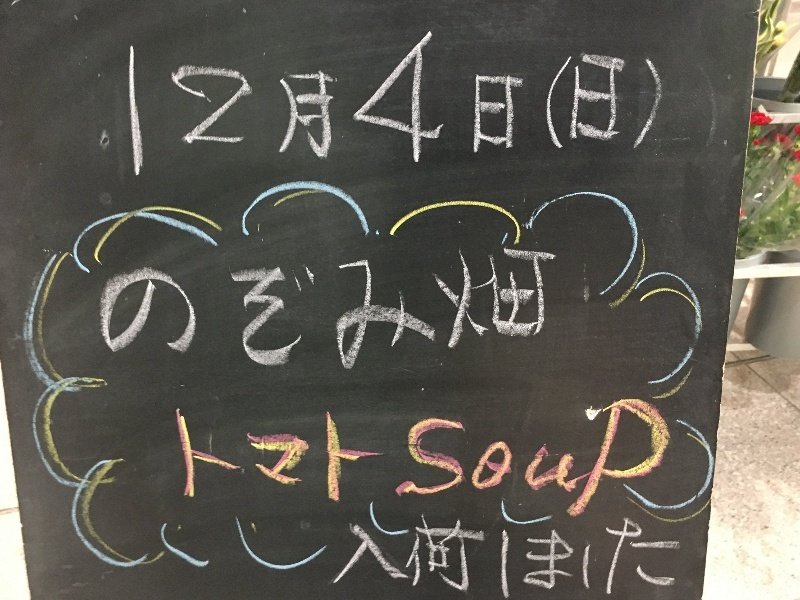text: (129, 34, 144, 175), (145, 34, 160, 175), (161, 34, 176, 175), (177, 34, 192, 175), (193, 34, 208, 175), (209, 34, 224, 175), (225, 34, 240, 175), (241, 34, 256, 175), (257, 34, 272, 175), (273, 34, 288, 175), (289, 34, 304, 175), (305, 34, 320, 175), (321, 34, 336, 175), (337, 34, 352, 175), (353, 34, 368, 175), (369, 34, 384, 175), (385, 34, 400, 175), (401, 34, 416, 175), (417, 34, 432, 175), (433, 34, 448, 175), (449, 34, 464, 175), (465, 34, 480, 175), (481, 34, 496, 175), (497, 34, 512, 175), (417, 397, 432, 515), (433, 397, 448, 515), (449, 397, 464, 515), (465, 397, 480, 515), (481, 397, 496, 515), (497, 397, 512, 515), (513, 397, 528, 515), (529, 397, 544, 515), (545, 397, 560, 515), (561, 397, 576, 515), (577, 397, 592, 515), (593, 397, 608, 515), (609, 397, 624, 515), (625, 397, 640, 515), (641, 397, 656, 515), (657, 397, 672, 515), (113, 252, 128, 368), (129, 252, 144, 368), (145, 252, 160, 368), (161, 252, 176, 368), (177, 252, 192, 368), (193, 252, 208, 368), (209, 252, 224, 368), (225, 252, 240, 368), (241, 252, 256, 368), (257, 252, 272, 368), (273, 252, 288, 368), (289, 252, 304, 368), (305, 252, 320, 368), (321, 252, 336, 368), (337, 252, 352, 368), (353, 252, 368, 368), (369, 252, 384, 368), (385, 252, 400, 368), (401, 252, 416, 368), (417, 252, 432, 368), (433, 252, 448, 368), (449, 252, 464, 368), (465, 252, 480, 368), (481, 252, 496, 368), (497, 252, 512, 368), (513, 252, 528, 368), (529, 252, 544, 368), (673, 397, 686, 515), (561, 53, 576, 149), (577, 53, 592, 149), (593, 53, 608, 149), (609, 53, 624, 149), (625, 53, 640, 149), (641, 53, 656, 149), (177, 409, 192, 505), (193, 409, 208, 505), (209, 409, 224, 505), (225, 409, 240, 505), (241, 409, 256, 505), (257, 409, 272, 505), (273, 409, 288, 505), (289, 409, 304, 505), (305, 409, 320, 505), (321, 409, 336, 505), (337, 409, 352, 505), (353, 409, 368, 505), (101, 252, 112, 368), (547, 53, 560, 149), (545, 252, 555, 368), (657, 53, 669, 149), (353, 520, 368, 595), (369, 520, 384, 595), (385, 520, 400, 595), (401, 520, 416, 595), (417, 520, 432, 595), (433, 520, 448, 595), (449, 520, 464, 595), (465, 520, 480, 595), (481, 520, 496, 595), (497, 520, 512, 595), (513, 520, 528, 595), (529, 520, 544, 595), (545, 520, 560, 595), (561, 520, 576, 595), (577, 520, 592, 595), (593, 520, 608, 595), (609, 520, 624, 595), (625, 520, 640, 595), (641, 520, 656, 595), (657, 520, 672, 595), (513, 34, 520, 175), (673, 520, 686, 595), (369, 409, 377, 505), (344, 520, 352, 595), (411, 397, 416, 515), (172, 409, 176, 505), (126, 34, 128, 175)
